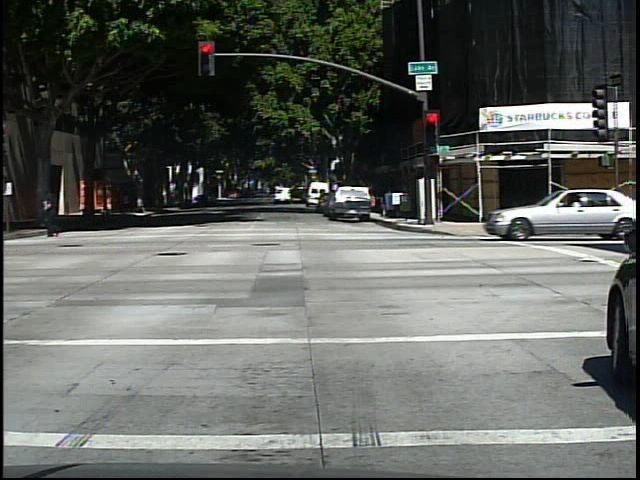person: (39, 188, 68, 240)
